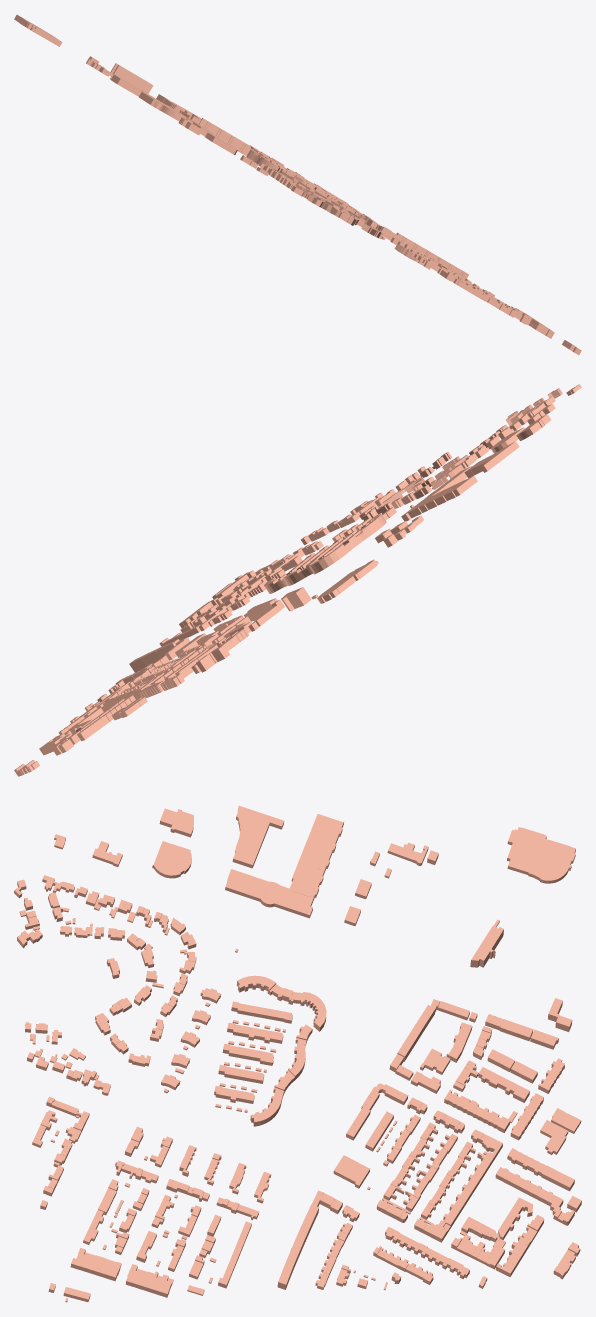
The picture shows the model from 3 angles, top to bottom: view 1: azimuth 30°, elevation 25°; view 2: azimuth 150°, elevation 25°; view 3: azimuth 270°, elevation 25°; orthographic projection. The views are drawn at different scales.
Bounding box in the file's own units: 502 × 385 × 637.
